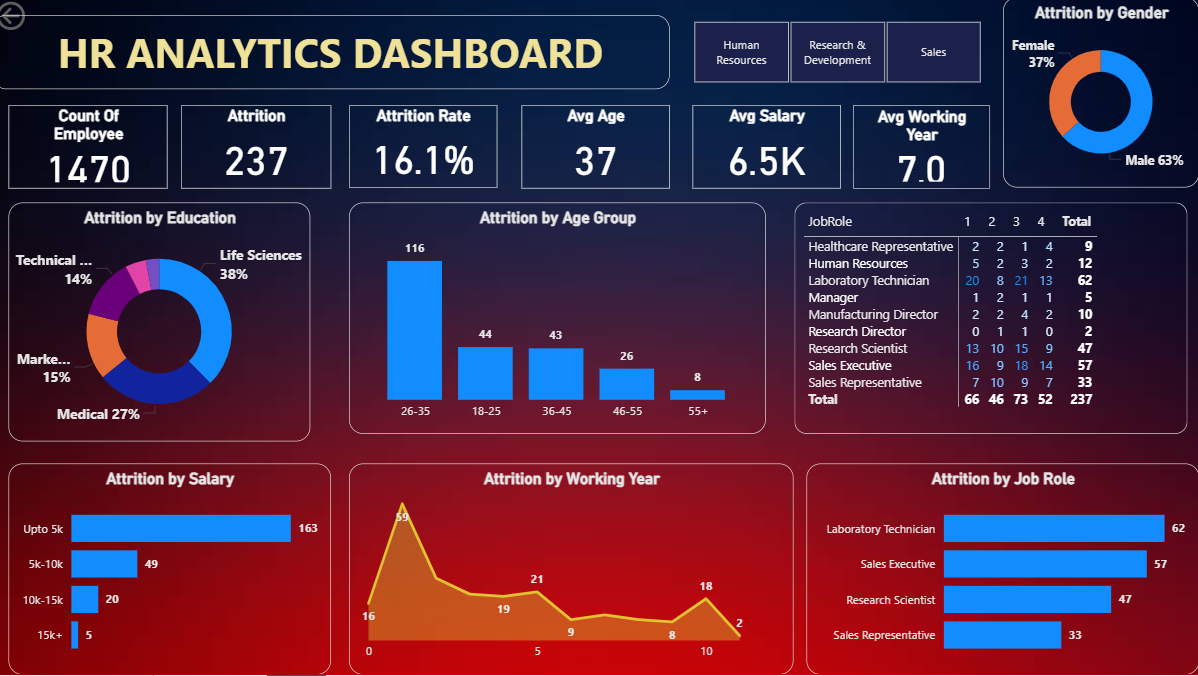

This screenshot's page, from the dashboard's own definition file:
{"tool":"powerbi","page":{"name":"Page 1","canvas":[1280,720],"ordinal":0},"visuals":[{"type":"card","title":"Count Of Employee","fields":{"Values":["CountNonNull(HR_Analytics.EmpID)"]},"box":[17.7,113.9,168.9,88.4],"z":0},{"type":"card","title":"Attrition","fields":{"Values":["Sum(HR_Analytics.AttritionCount)"]},"box":[200.4,113.9,159.1,88.4],"z":1},{"type":"card","title":"Attrition Rate","fields":{"Values":["HR_Analytics.AttritionRate"]},"box":[379,114,157,88],"z":3},{"type":"actionButton","box":[0,0,100,40],"z":4},{"type":"card","title":"Avg Age","fields":{"Values":["Avg(HR_Analytics.Age)"]},"box":[561.8,113.9,157.1,88.4],"z":5},{"type":"card","title":"Avg Salary","fields":{"Values":["Avg(HR_Analytics.MonthlyIncome)"]},"box":[742.5,113.9,157.1,88.4],"z":6},{"type":"card","title":"Avg Working Year","fields":{"Values":["Avg(HR_Analytics.YearsAtCompany)"]},"box":[913.4,113.9,145.4,88.4],"z":7},{"type":"donutChart","title":"Attrition by Education","fields":{"Category":["HR_Analytics.EducationField"],"Y":["Sum(HR_Analytics.AttritionCount)"]},"box":[17.7,218,320.2,253.4],"z":8},{"type":"columnChart","title":"Attrition by Age Group","fields":{"Category":["HR_Analytics.AgeGroup"],"Y":["Sum(HR_Analytics.AttritionCount)"]},"box":[379.1,218,442,245.5],"z":9},{"type":"pivotTable","fields":{"Rows":["HR_Analytics.JobRole"],"Columns":["HR_Analytics.JobSatisfaction"],"Values":["Sum(HR_Analytics.AttritionCount)"]},"box":[850.5,218,416.4,245.5],"z":10},{"type":"clusteredBarChart","title":"Attrition by Salary ","fields":{"Category":["HR_Analytics.SalarySlab"],"Y":["Sum(HR_Analytics.AttritionCount)"]},"box":[17.7,495,341.8,223.9],"z":11},{"type":"clusteredBarChart","title":"Attrition by Job Role","fields":{"Category":["HR_Analytics.JobRole"],"Y":["Sum(HR_Analytics.AttritionCount)"]},"box":[864.3,495,416.4,223.9],"z":12},{"type":"areaChart","title":"Attrition by Working Year","fields":{"Category":["HR_Analytics.YearsAtCompany"],"Y":["Sum(HR_Analytics.AttritionCount)"]},"box":[379.1,495,471.4,223.9],"z":13},{"type":"pieChart","title":"Attrition by Gender","fields":{"Category":["HR_Analytics.Gender"],"Y":["Sum(HR_Analytics.AttritionCount)"]},"box":[1072.5,0,208.2,202.3],"z":14},{"type":"slicer","fields":{"Values":["HR_Analytics.Department"]},"box":[718.9,19.6,353.6,78.6],"z":15},{"type":"textbox","box":[0,19.6,718.9,78.6],"z":16}]}

Visuals, with their boxes in screenshot pixels (x1, y1, x2, y2), scaled from the page's 1280x720 canvas onto the 1198x676 screenshot:
"Count Of Employee" card: bbox=(17, 107, 175, 190)
"Attrition" card: bbox=(188, 107, 336, 190)
"Attrition Rate" card: bbox=(355, 107, 502, 190)
actionButton: bbox=(0, 0, 94, 38)
"Avg Age" card: bbox=(526, 107, 673, 190)
"Avg Salary" card: bbox=(695, 107, 842, 190)
"Avg Working Year" card: bbox=(855, 107, 991, 190)
"Attrition by Education" donutChart: bbox=(17, 205, 316, 443)
"Attrition by Age Group" columnChart: bbox=(355, 205, 768, 435)
pivotTable - HR_Analytics.JobRole x HR_Analytics.JobSatisfaction: bbox=(796, 205, 1186, 435)
"Attrition by Salary " clusteredBarChart: bbox=(17, 465, 336, 675)
"Attrition by Job Role" clusteredBarChart: bbox=(809, 465, 1197, 675)
"Attrition by Working Year" areaChart: bbox=(355, 465, 796, 675)
"Attrition by Gender" pieChart: bbox=(1004, 0, 1197, 190)
slicer - HR_Analytics.Department: bbox=(673, 18, 1004, 92)
textbox: bbox=(0, 18, 673, 92)
